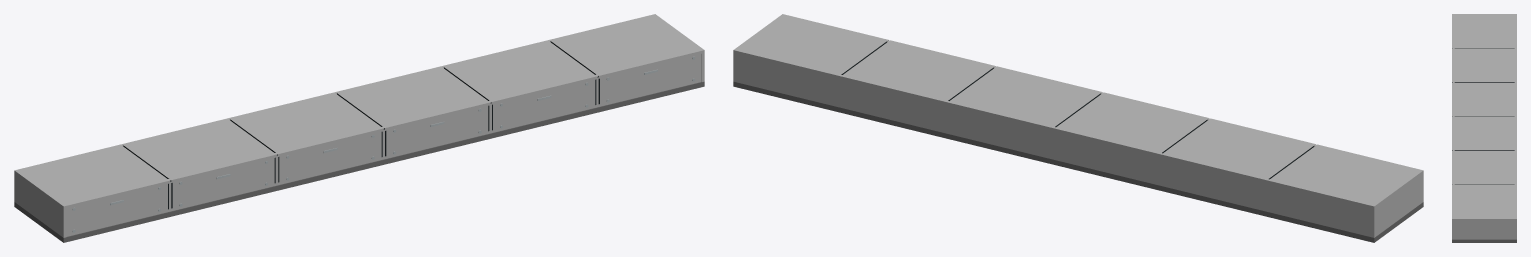
File: distribution-south.glb
3 views of the same model, side by side, from view 1: azimuth 30°, elevation 25°; view 2: azimuth 150°, elevation 25°; view 3: azimuth 270°, elevation 25° (orthographic). The views are drawn at different scales.
Visible parts, largest first — view 1: roof, deck_plinth, panel_3, panel_4, panel_5, panel_0, panel_1, panel_2, end_-9.335, back_wall, roof_backing; view 2: roof, back_wall, deck_plinth, end_-9.335, roof_backing; view 3: roof, end_9.335, back_wall, deck_plinth, panel_5, panel_1, panel_4, panel_0, panel_2, panel_3, end_-9.335.
Boxes of the visible parts, x1,y1,x2,y2 form: roof: (19,15,702,207); deck_plinth: (14,81,704,242); panel_3: (382,101,490,159); panel_4: (489,74,597,133); panel_5: (596,49,703,107); panel_0: (61,179,169,236); panel_1: (169,153,276,211); panel_2: (276,127,383,185); end_-9.335: (14,170,66,237); back_wall: (14,14,656,202); roof_backing: (32,52,704,209); roof: (735,14,1422,206); back_wall: (733,49,1375,237); deck_plinth: (733,81,1423,242); end_-9.335: (1371,170,1423,237); roof_backing: (733,52,1422,208); roof: (1452,14,1516,219); end_9.335: (1452,218,1516,239); back_wall: (1514,14,1516,239); deck_plinth: (1452,239,1516,242); panel_5: (1452,185,1454,238); panel_1: (1452,48,1454,82); panel_4: (1452,150,1454,184); panel_0: (1452,14,1454,48); panel_2: (1452,82,1454,116); panel_3: (1452,116,1454,150); end_-9.335: (1452,14,1514,14).
Bounding box in the file's own units: 18.75 × 1.02 × 2.5.
Materials: 5 (2 with a texture image).
